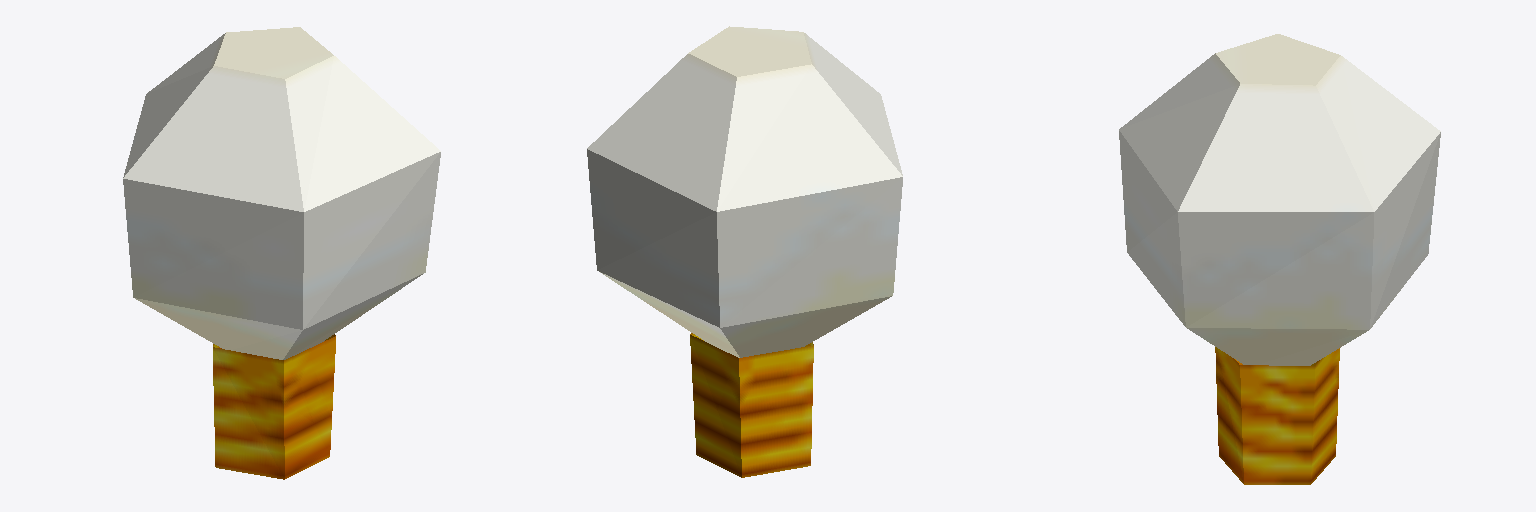
The picture shows the model from 3 angles: view 1: azimuth 30°, elevation 25°; view 2: azimuth 150°, elevation 25°; view 3: azimuth 270°, elevation 25°; orthographic projection.
Bounding box in the file's own units: 1.85 × 2.65 × 1.93.
2 materials, 1 textured.